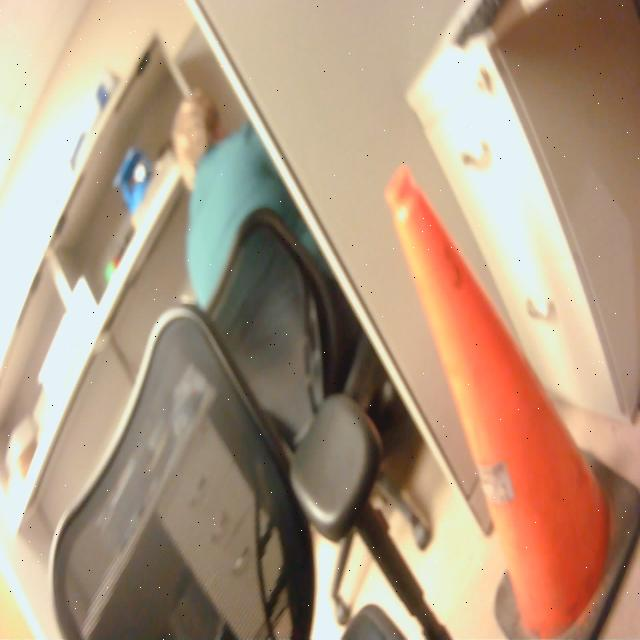traffic cone: (381, 154, 640, 640)
